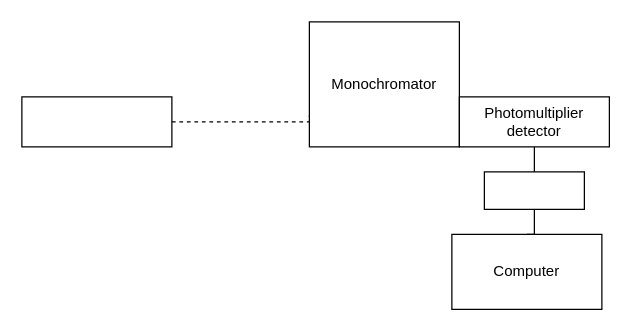
Image size: 631x331. Some labels were removed from this diagram. Each missing label, with the box of its shape:
Counting Electronics: (483, 171, 584, 209)
HeNe laser: (21, 96, 172, 147)
